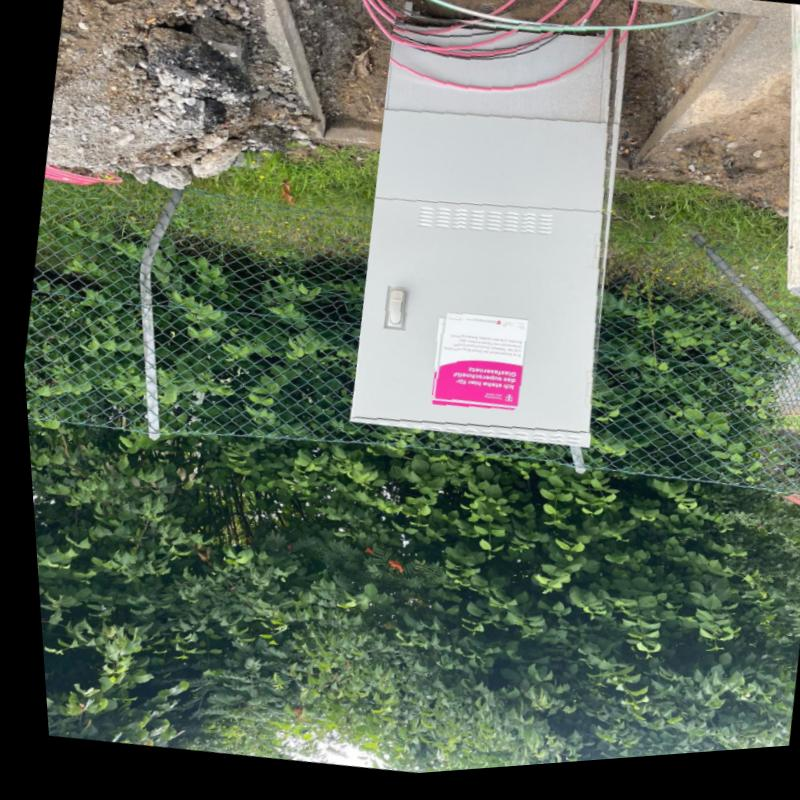NT-Gehause: (323, 0, 656, 468)
Steaker: (429, 317, 522, 416)
